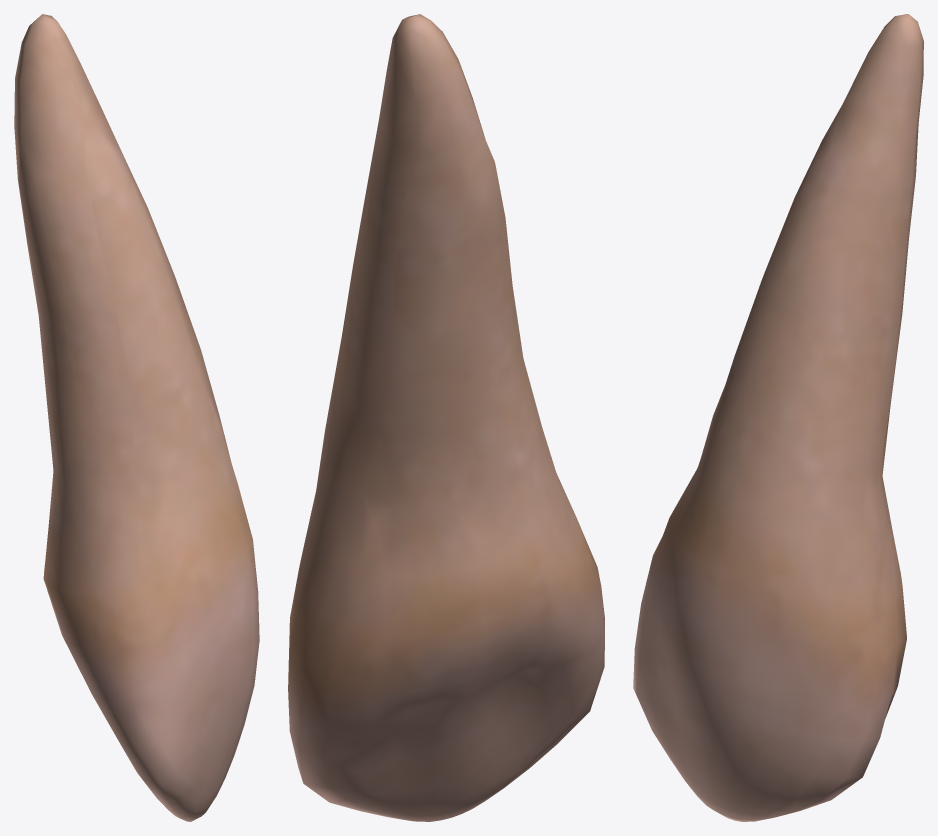
3 renders of one model, left to right at view 1: azimuth 30°, elevation 25°; view 2: azimuth 150°, elevation 25°; view 3: azimuth 270°, elevation 25°, orthographic. The views are drawn at different scales.
Visible parts, largest first — view 1: t_23; view 2: t_23; view 3: t_23.
Part boxes in pixels (left/top/right/bottom): t_23: left=14, top=14, right=259, bottom=821; t_23: left=288, top=14, right=604, bottom=821; t_23: left=633, top=14, right=923, bottom=821.
Bounding box in the file's own units: 0.0639 × 0.2353 × 0.0803.
1 material, 1 textured.
